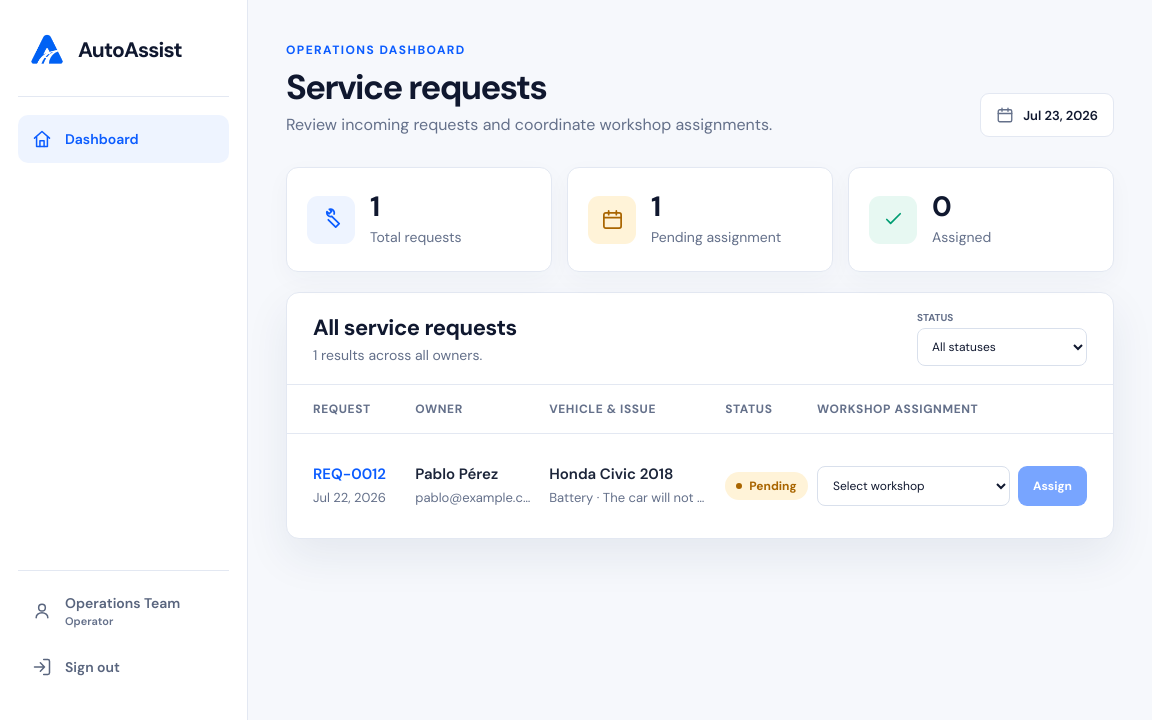
Phase 4 frontend › loads requests and assigns a workshop from the operator dashboard
Select "Baterías Palermo · Battery" in the dropdown named "Workshop for request 12" at (913, 486), box [817,466,1010,506]
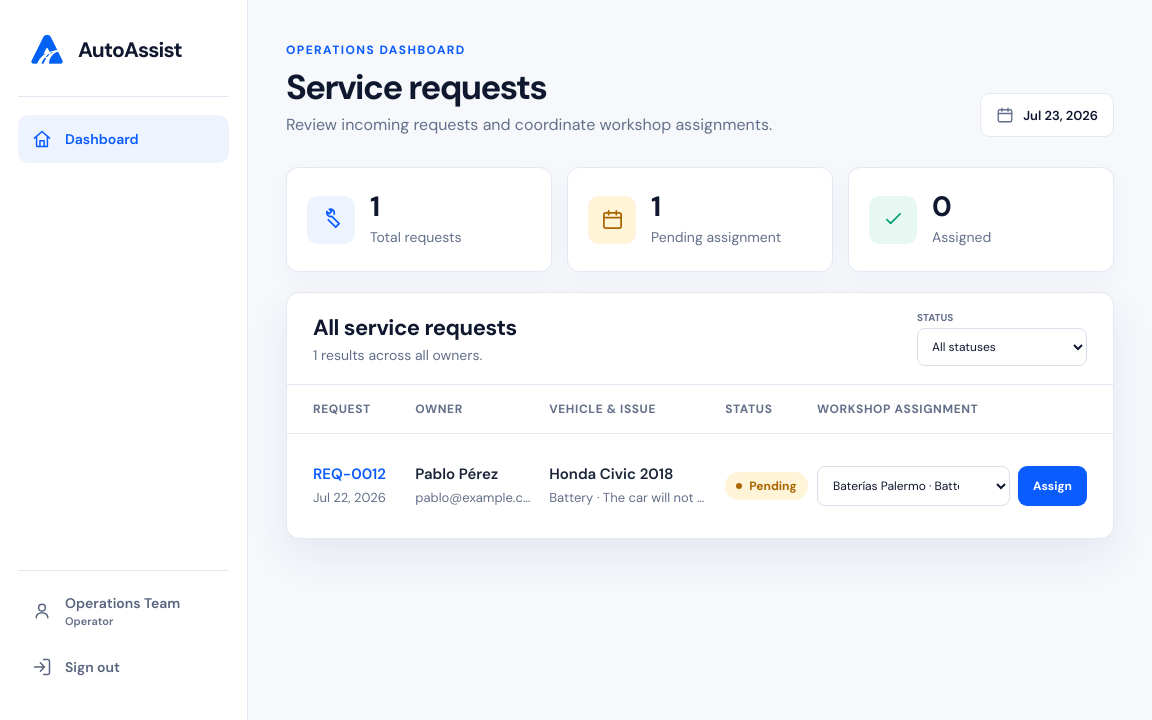
Click the button "Assign" at (1052, 486), box [1018,466,1087,506]
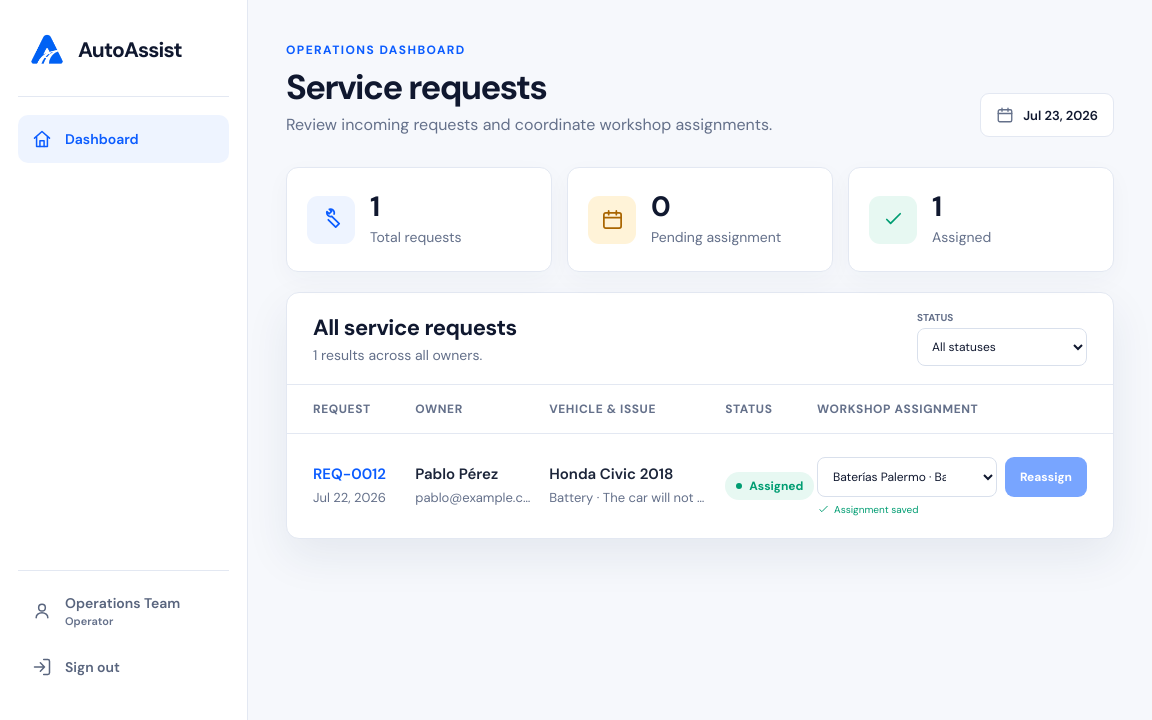
Expected: the text "Assignment saved" is shown, [817,502,919,516]
Expected: the text "Assigned" is shown, [725,472,814,500]
